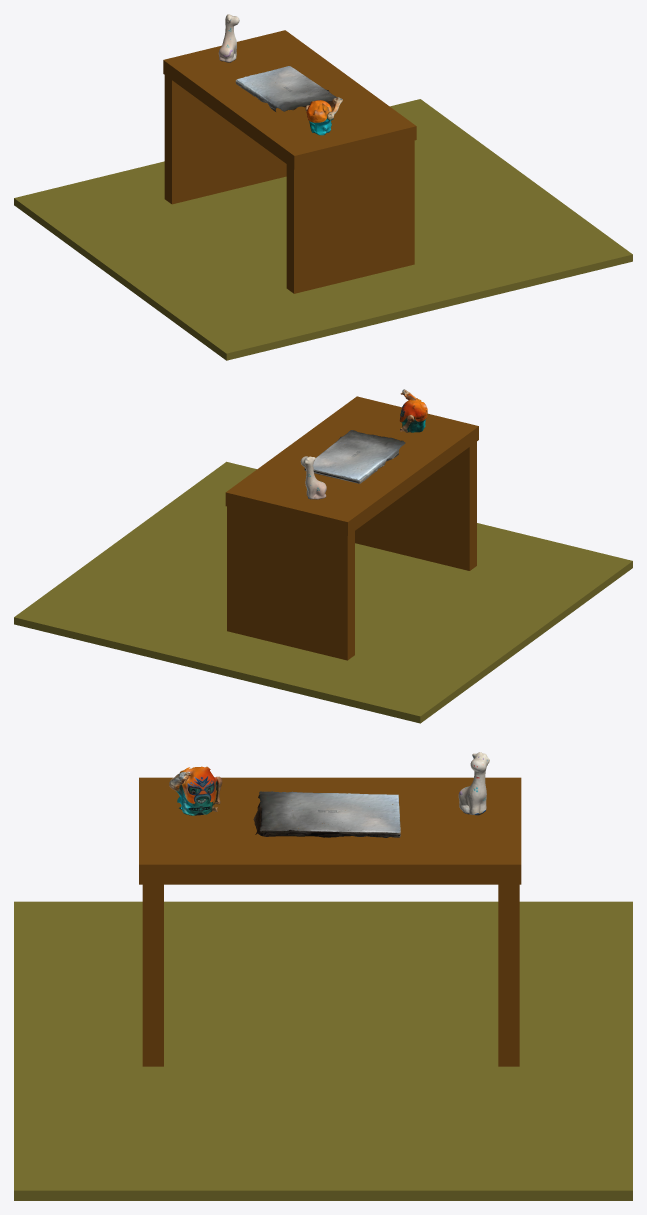
The model's file is asset.glb.
The picture shows the model from 3 angles, top to bottom: view 1: azimuth 30°, elevation 25°; view 2: azimuth 150°, elevation 25°; view 3: azimuth 270°, elevation 25°; orthographic projection. The views are drawn at different scales.
Parts seen in each view (by area): view 1: Cube, Cube.009, Cube.011, Cube.010, Mesh_0, Mesh_0.002, Mesh_0.001; view 2: Cube, Cube.010, Cube.011, Cube.009, Mesh_0, Mesh_0.002, Mesh_0.001; view 3: Cube, Cube.011, Mesh_0, Cube.010, Cube.009, Mesh_0.002, Mesh_0.001.
Part boxes in pixels (x1,y1,x2,y2): Cube: (14, 99, 632, 360); Cube.009: (286, 140, 414, 293); Cube.011: (163, 30, 416, 169); Cube.010: (164, 75, 286, 204); Mesh_0: (235, 66, 336, 111); Mesh_0.002: (305, 97, 342, 135); Mesh_0.001: (218, 14, 239, 62); Cube: (14, 461, 632, 723); Cube.010: (227, 506, 354, 660); Cube.011: (225, 396, 478, 535); Cube.009: (355, 442, 476, 570); Mesh_0: (304, 430, 405, 483); Mesh_0.002: (399, 389, 427, 432); Mesh_0.001: (300, 456, 326, 499); Cube: (14, 901, 632, 1200); Cube.011: (139, 777, 521, 884); Mesh_0: (253, 791, 400, 837); Cube.010: (498, 884, 519, 1066); Cube.009: (142, 884, 163, 1066); Mesh_0.002: (169, 766, 222, 815); Mesh_0.001: (458, 752, 489, 815).
Size of the model in its own units: 24.47 by 10.86 by 22.16.
Materials: 7 (3 with a texture image).
